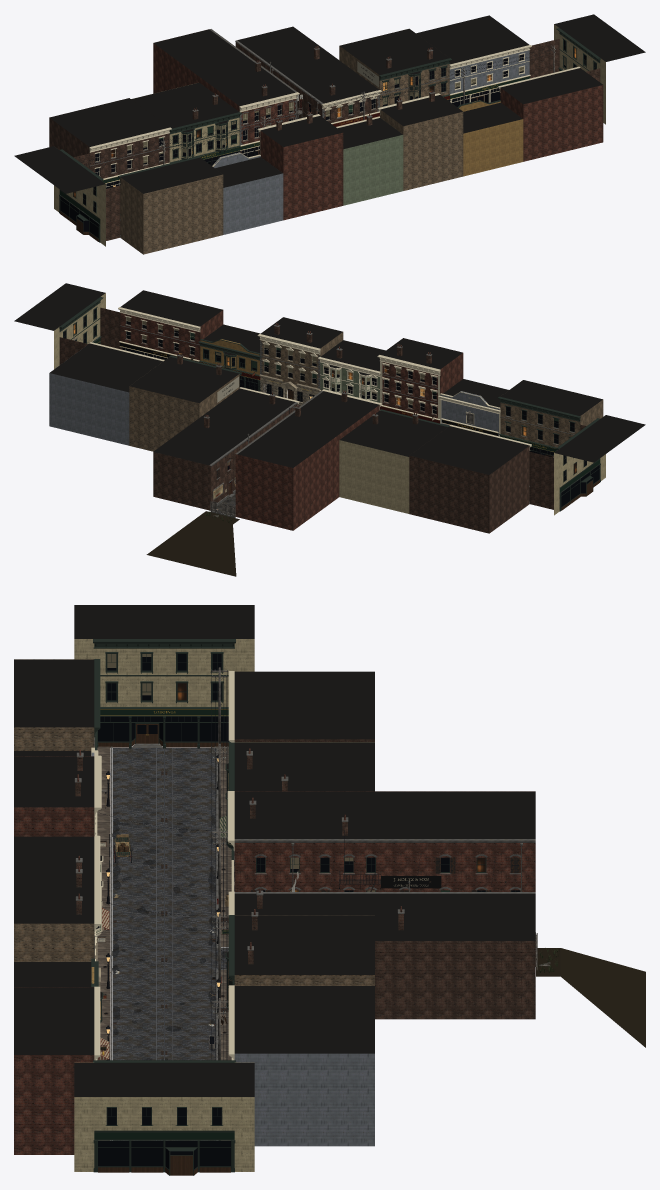
File: burritt.glb
The picture shows the model from 3 angles, top to bottom: view 1: azimuth 30°, elevation 25°; view 2: azimuth 150°, elevation 25°; view 3: azimuth 270°, elevation 25°; orthographic projection. The views are drawn at different scales.
Visible parts, largest first — view 1: roof.near, roof.ends, brick_tan.ends, roof.far, brick_red.far, brick_red.ends, brick_brown.ends, brick_tan.far, clap_sage.far, clap_grey.far, clap_ochre.far, brick_red.near (+18 smaller); view 2: roof.near, roof.ends, brick_brown.ends, brick_red.near, roof.far, clap_grey.ends, clap_cream.near, trim_cream.far, brick_tan.near, earth.alley, brick_brown.near, brick_red.far (+16 smaller); view 3: roof.ends, roof.near, stone_setts.ground, clap_cream.ends, brick_brown.near, roof.far, brick_red.alley, clap_grey.ends, trim_dark.ends, glass_dark.ends, brick_red.ends, earth.alley (+17 smaller).
Part boxes in pixels (<box>): roof.near: <box>131,26,449,132</box>; roof.ends: <box>14,14,645,193</box>; brick_tan.ends: <box>120,174,223,254</box>; roof.far: <box>215,95,522,187</box>; brick_red.far: <box>260,90,433,220</box>; brick_red.ends: <box>500,85,603,161</box>; brick_brown.ends: <box>49,39,600,240</box>; brick_tan.far: <box>380,104,463,190</box>; clap_sage.far: <box>343,118,403,205</box>; clap_grey.far: <box>213,152,283,234</box>; clap_ochre.far: <box>459,100,523,176</box>; brick_red.near: <box>153,29,432,152</box>; roof.near: <box>130,357,447,467</box>; roof.ends: <box>14,283,645,474</box>; brick_brown.ends: <box>59,307,597,533</box>; brick_red.near: <box>177,352,416,530</box>; roof.far: <box>203,317,508,407</box>; clap_grey.ends: <box>49,350,129,445</box>; clap_cream.near: <box>339,440,409,513</box>; trim_cream.far: <box>257,334,500,436</box>; brick_tan.near: <box>129,360,239,451</box>; earth.alley: <box>146,511,239,576</box>; brick_brown.near: <box>153,356,418,510</box>; brick_red.far: <box>275,323,463,418</box>; roof.ends: <box>14,605,374,1096</box>; roof.near: <box>226,742,535,974</box>; stone_setts.ground: <box>113,748,228,1140</box>; clap_cream.ends: <box>74,639,254,1171</box>; brick_brown.near: <box>247,755,535,1019</box>; roof.far: <box>14,751,102,997</box>; brick_red.alley: <box>234,843,535,891</box>; clap_grey.ends: <box>234,1053,374,1146</box>; trim_dark.ends: <box>93,639,235,1175</box>; glass_dark.ends: <box>98,654,230,1169</box>; brick_red.ends: <box>14,987,94,1154</box>; earth.alley: <box>536,948,645,1047</box>.
Bounding box in the file's own units: 116 × 21.52 × 63.
58 materials, 30 textured.
